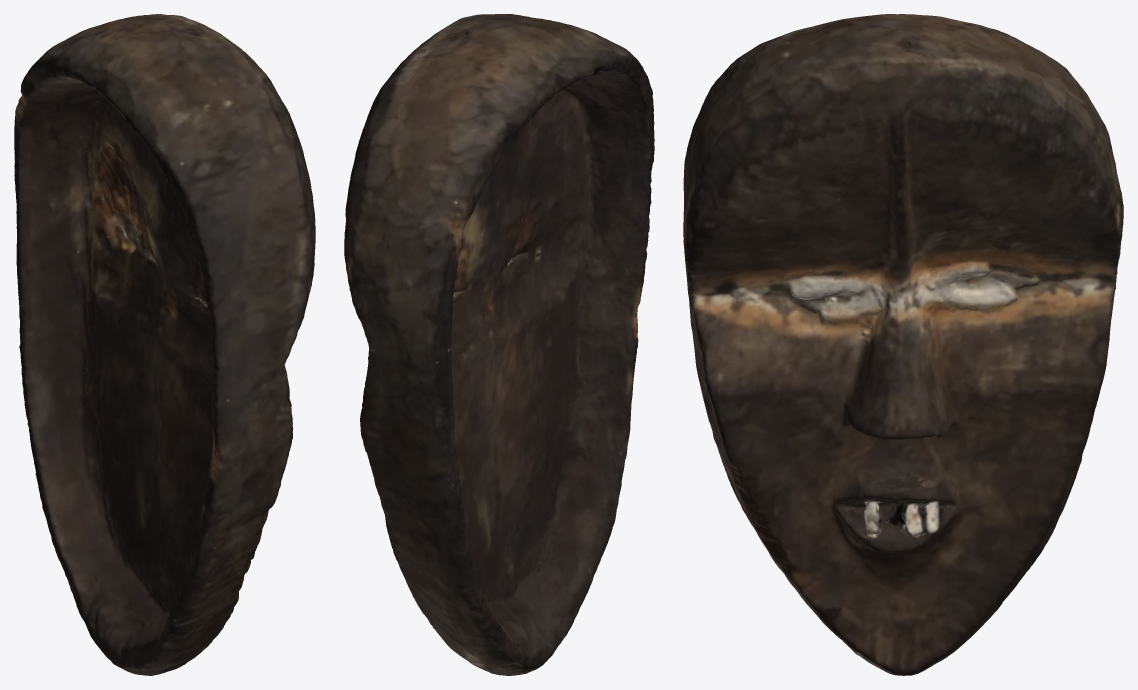
The model's file is preview.glb.
3 views of the same model, side by side, from view 1: azimuth 30°, elevation 25°; view 2: azimuth 150°, elevation 25°; view 3: azimuth 270°, elevation 25° (orthographic). The views are drawn at different scales.
Visible parts, largest first — view 1: Object_2; view 2: Object_2; view 3: Object_2.
Part boxes in pixels (x1,y1,x2,y2): Object_2: (14, 14, 315, 675); Object_2: (344, 14, 654, 675); Object_2: (683, 14, 1123, 675).
Bounding box in the file's own units: 60.3 × 227 × 139.
Materials: 1 (1 with a texture image).
